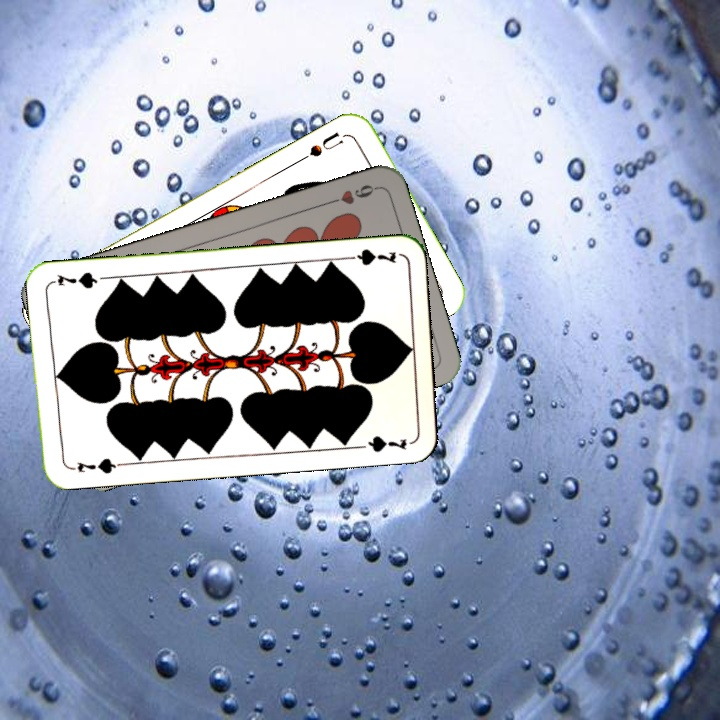G7: (340, 245, 399, 268), (65, 454, 124, 477)
H9: (322, 180, 380, 208)
SU: (295, 128, 350, 164)
